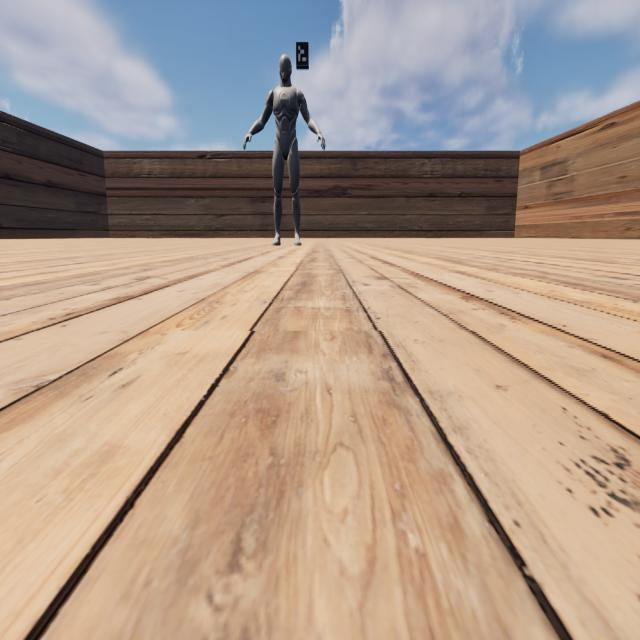aruco: (296, 41, 309, 65)
hip: (275, 137, 298, 148)
